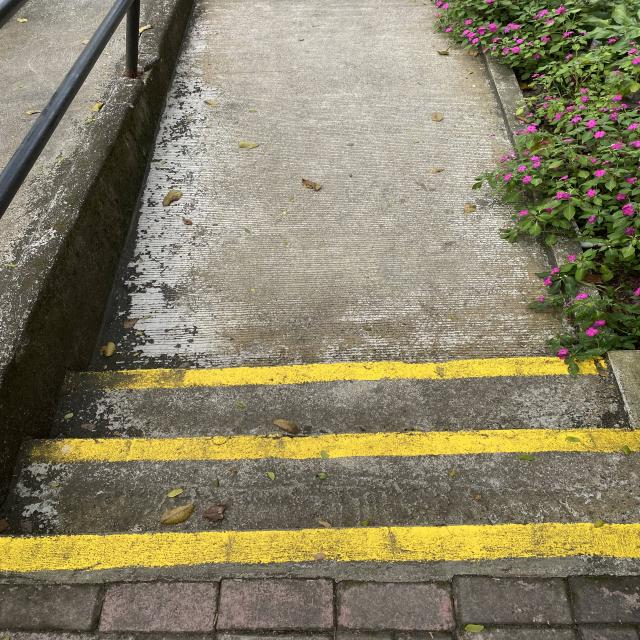stair: (5, 354, 634, 636)
